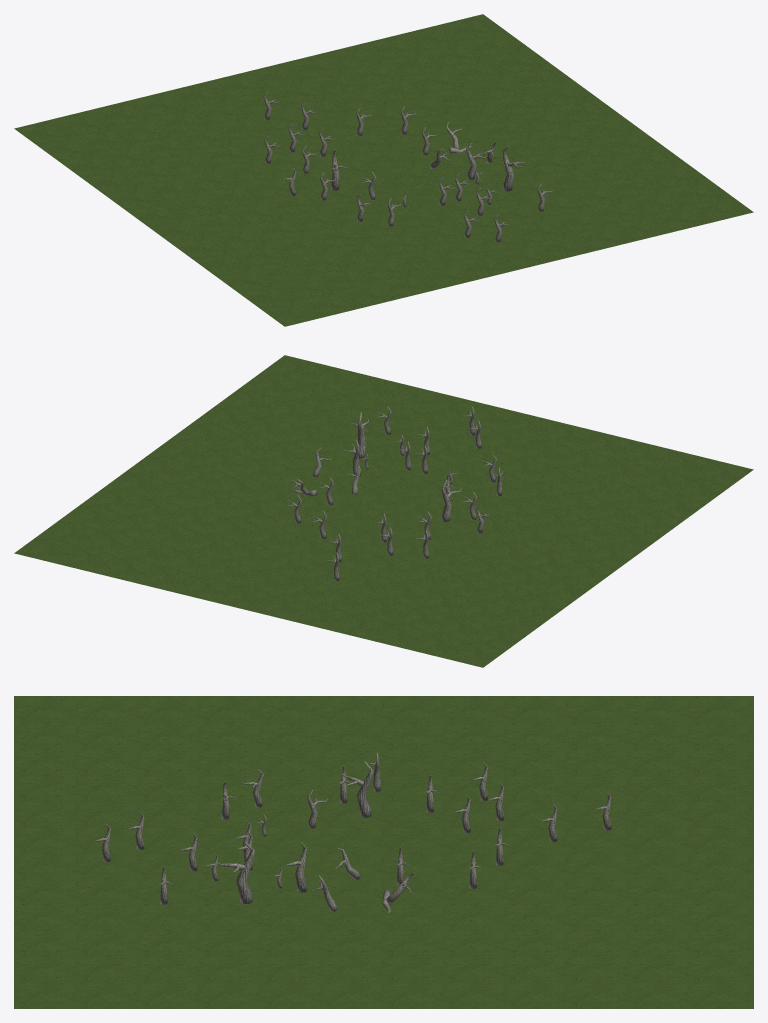
Rendered from no house.fbx.
3 views of the same model, one above another, from view 1: azimuth 30°, elevation 25°; view 2: azimuth 150°, elevation 25°; view 3: azimuth 270°, elevation 25° (orthographic). The views are drawn at different scales.
Parts seen in each view (by area): view 1: Plane.001; view 2: Plane.001; view 3: Plane.001.
Part boxes in pixels (x1=…): Plane.001: x1=14, y1=14, x2=753, y2=326; Plane.001: x1=14, y1=355, x2=753, y2=667; Plane.001: x1=14, y1=696, x2=753, y2=1008.
Size of the model in its own units: 2898 by 316 by 2898.
